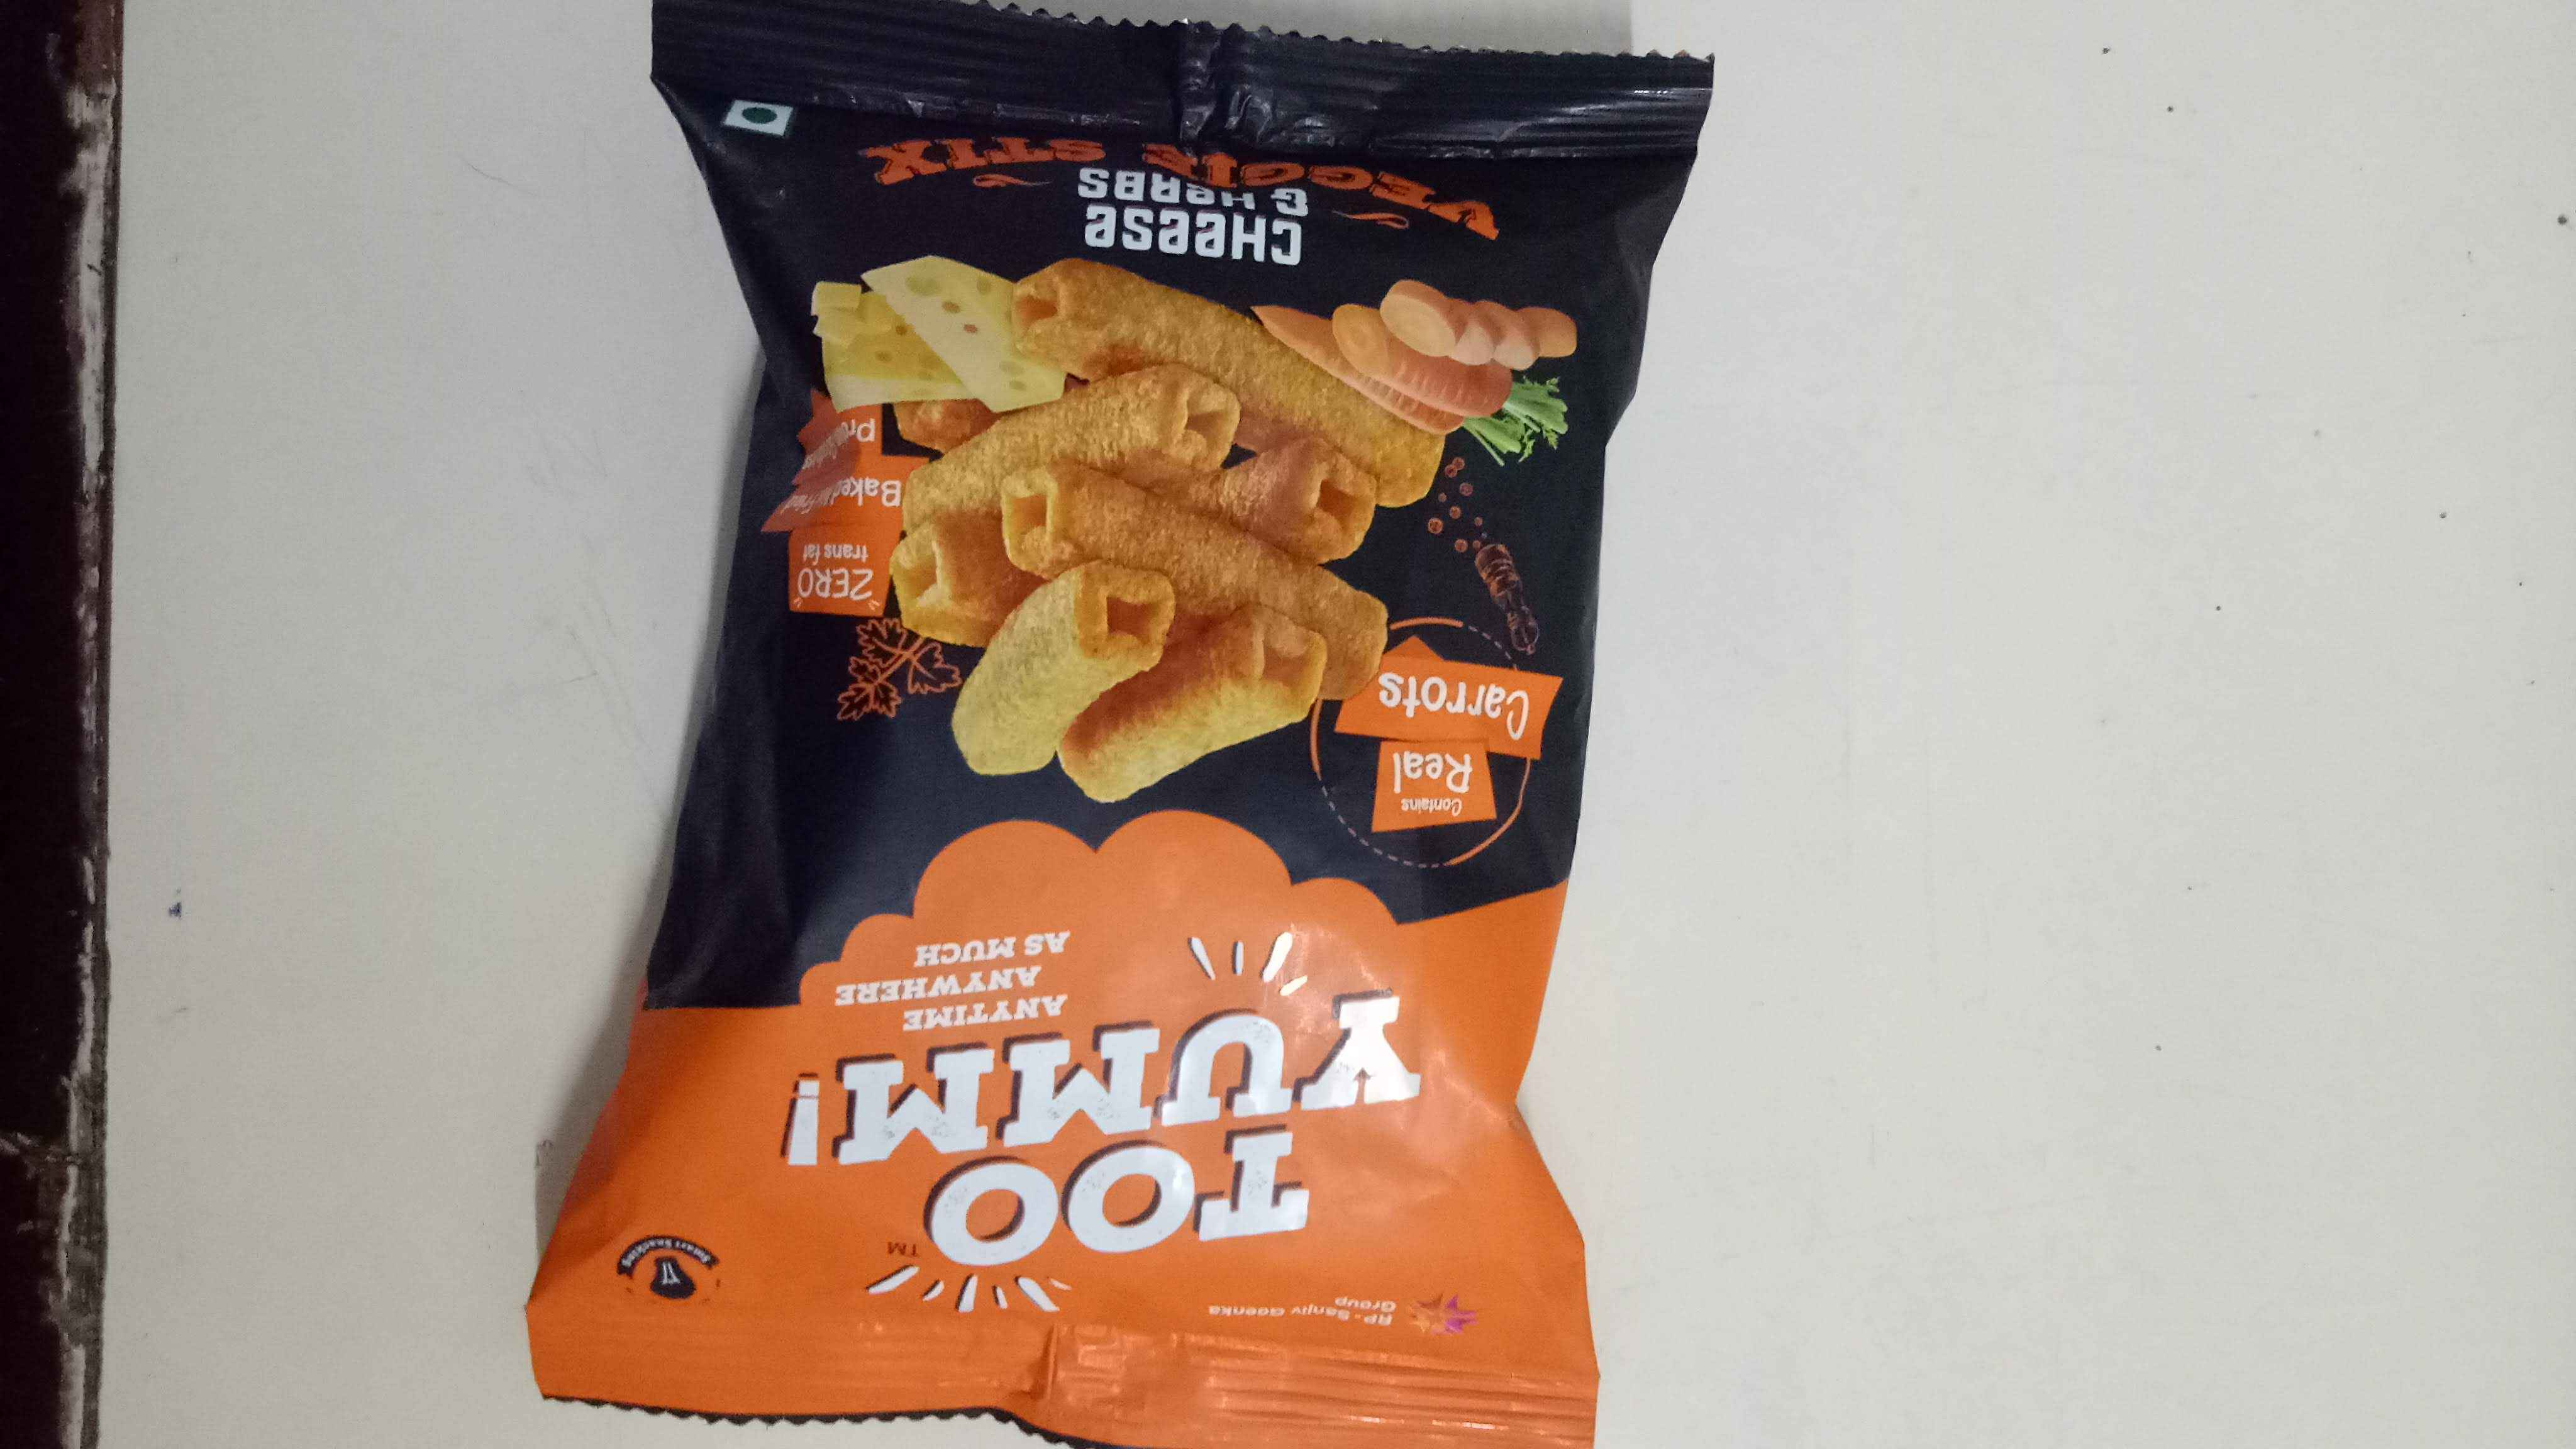tooyumm: (757, 975, 1483, 1274)
